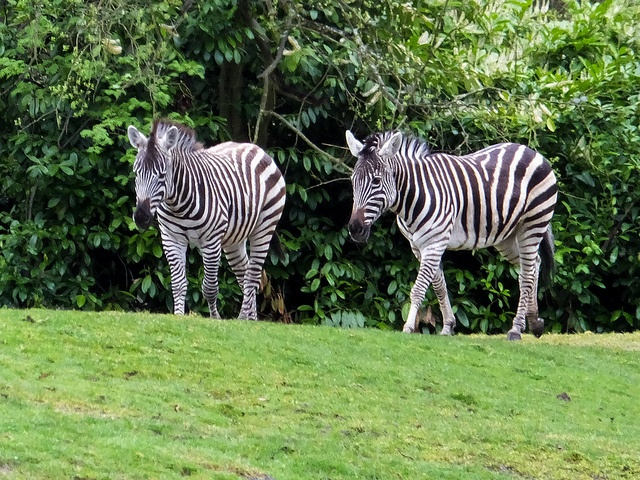zebra: (341, 126, 559, 342), (123, 119, 285, 323)
